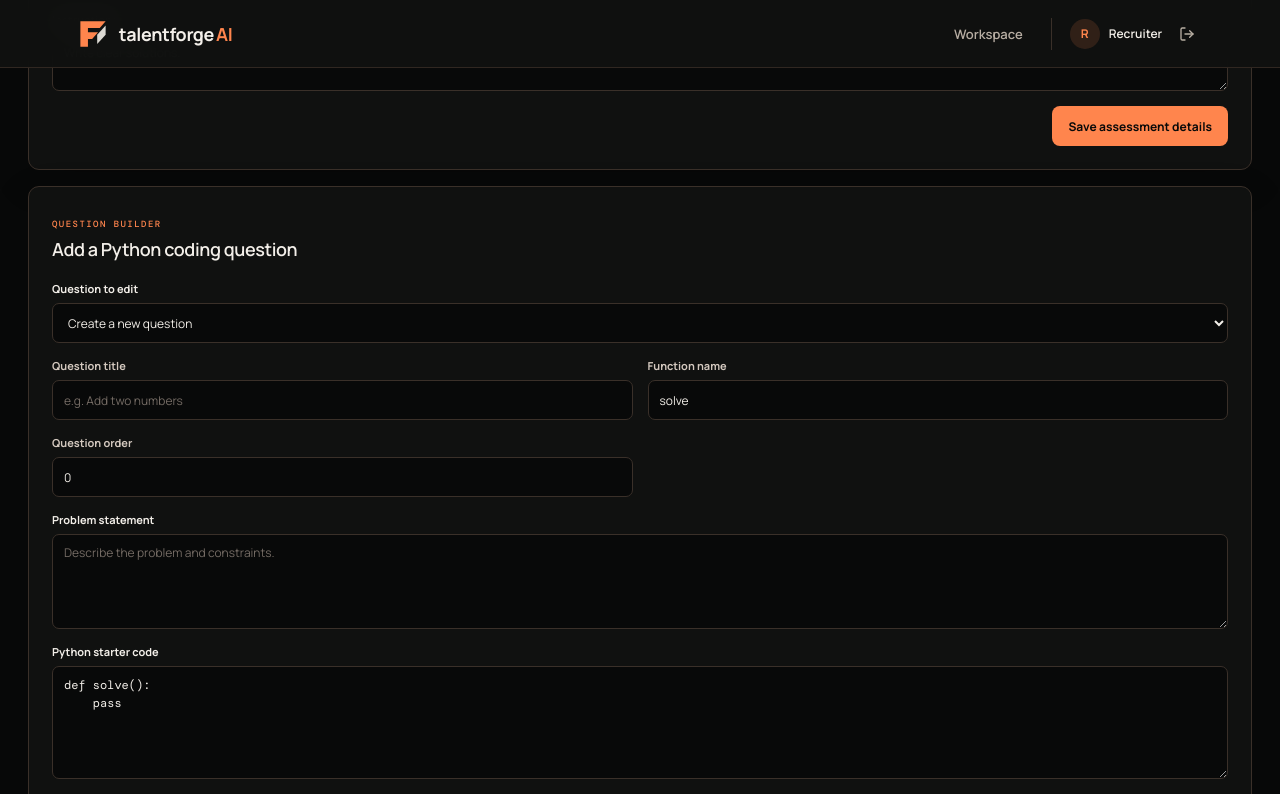
Test: recruiter assessment CRUD › adds a new question through POST without updating an existing question
(page scrolled)
Expected: the heading "Add a Python coding question" is shown, x1=52 y1=237 x2=297 y2=261
In the field labelled "Question title": (342, 400) x1=52 y1=380 x2=632 y2=420, type "Multiply values"
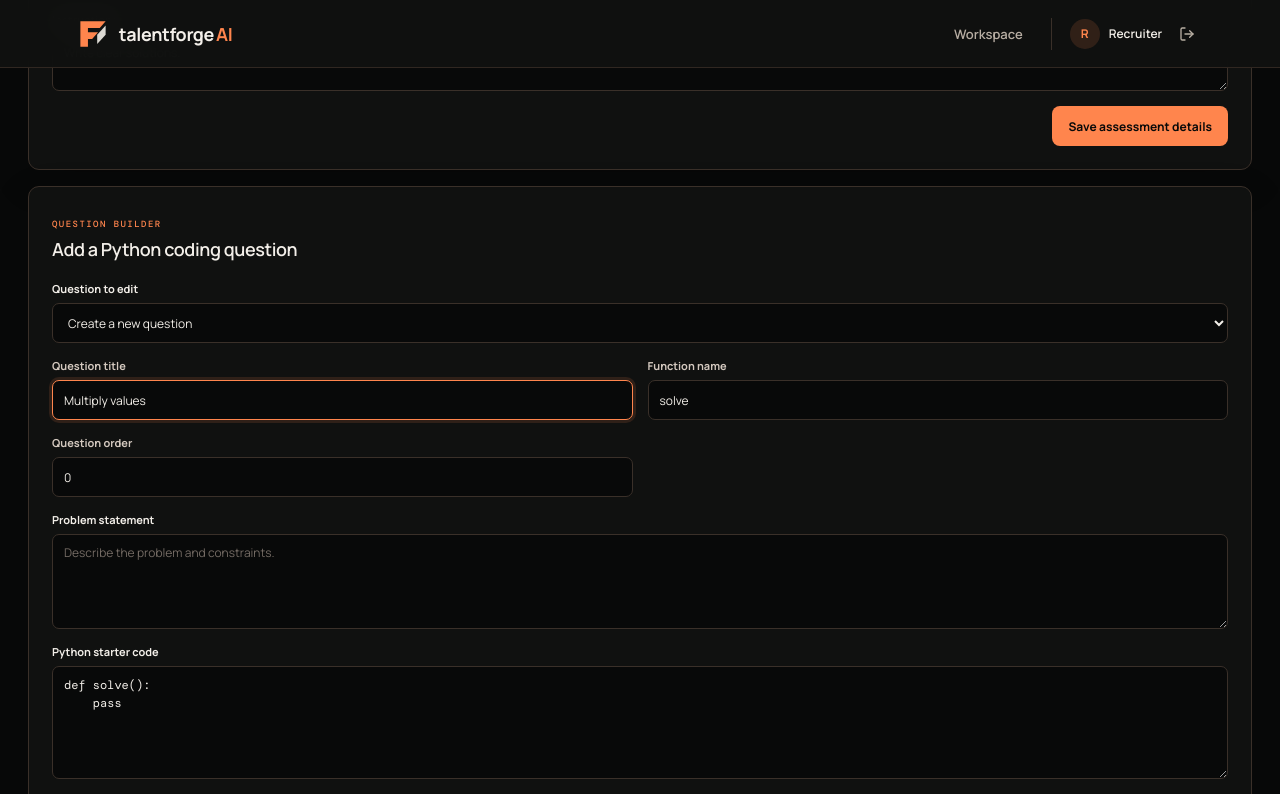
Replace the text in the field labelled "Function name" with "multiply": (938, 400) x1=648 y1=380 x2=1228 y2=420
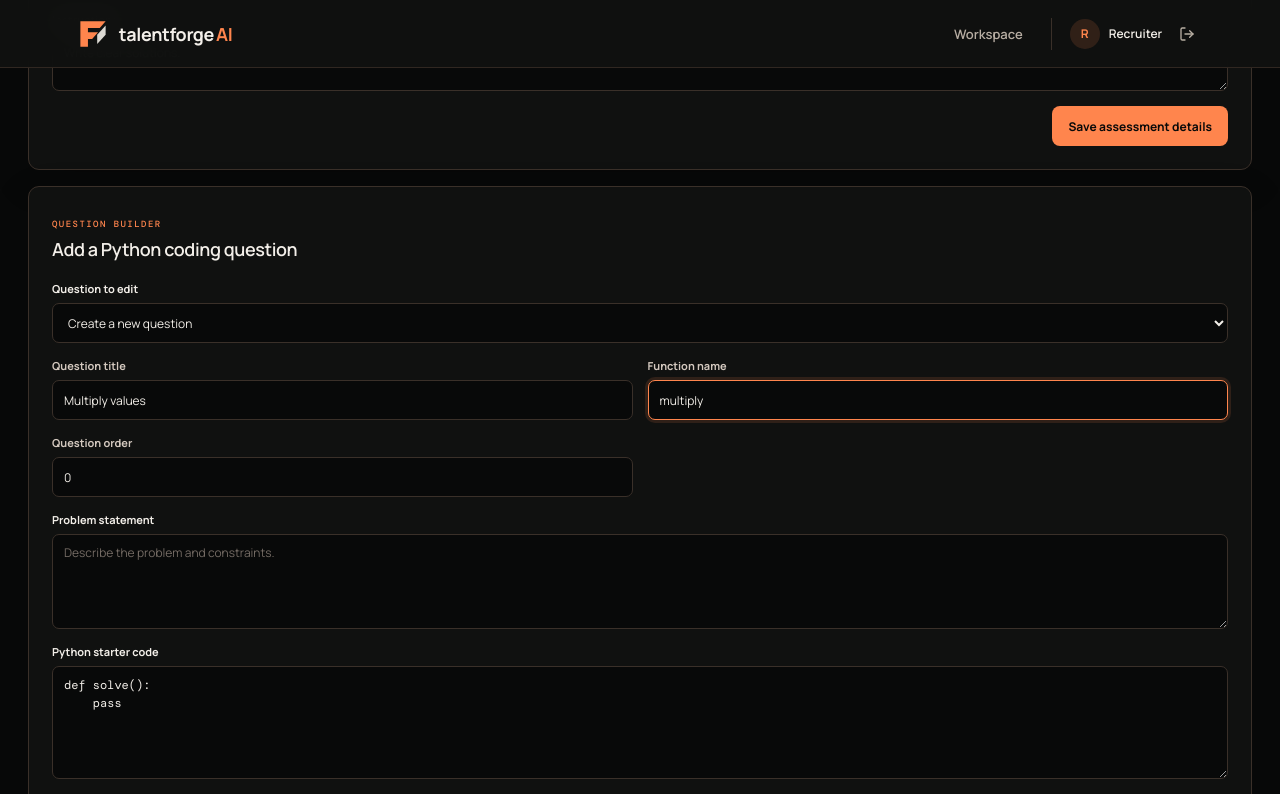
In the text box labelled "Problem statement": (640, 581) x1=52 y1=534 x2=1228 y2=629, type "Return the product."
(page scrolled)
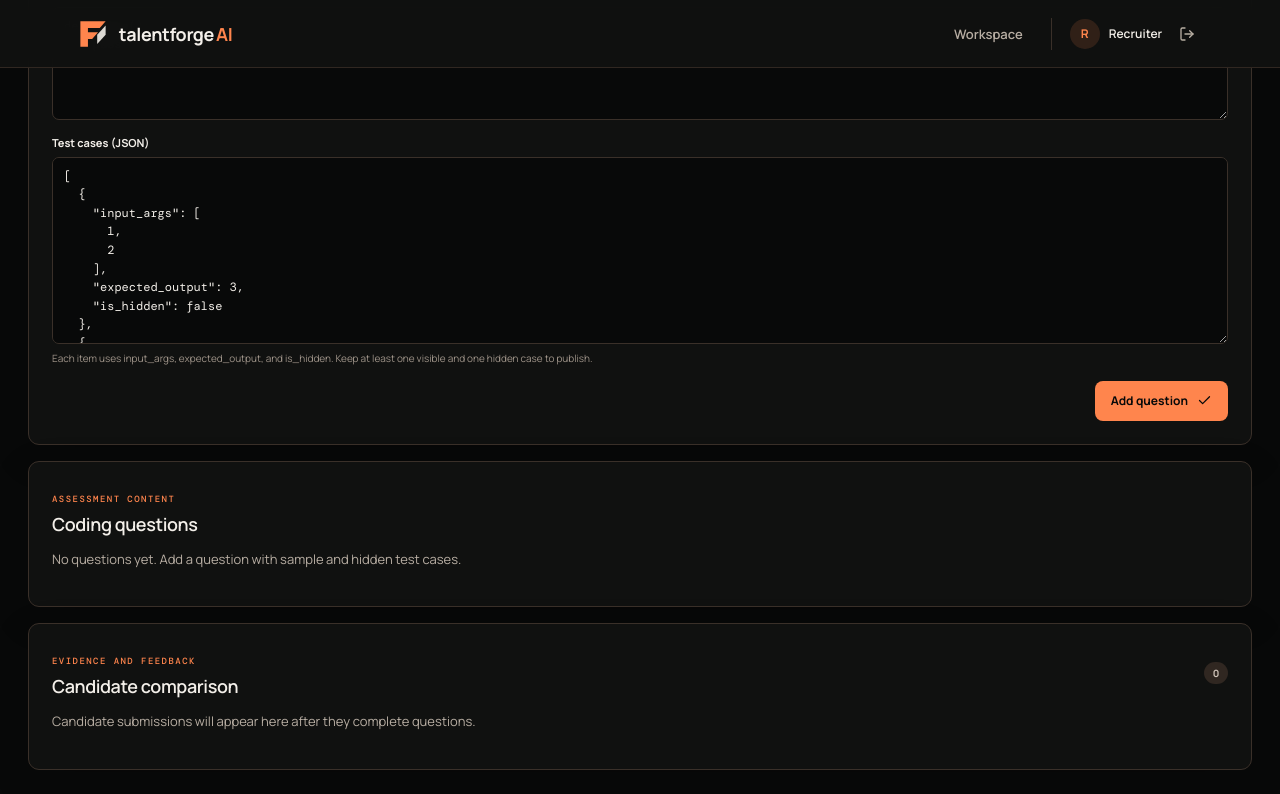
Click the button "Add question": (1161, 401) x1=1095 y1=381 x2=1228 y2=421
(page scrolled)
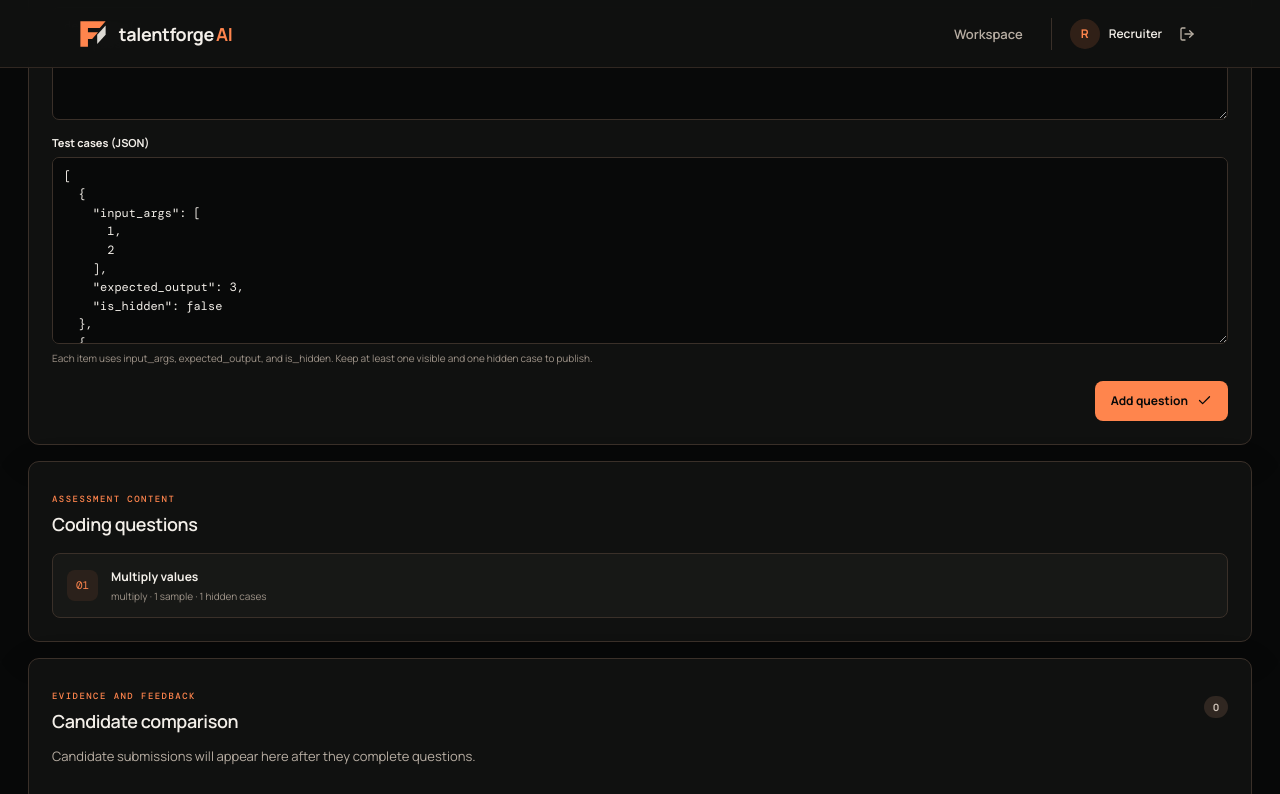
Expected: the button with aria-label "Edit question Multiply values" is shown, x1=52 y1=553 x2=1228 y2=618
